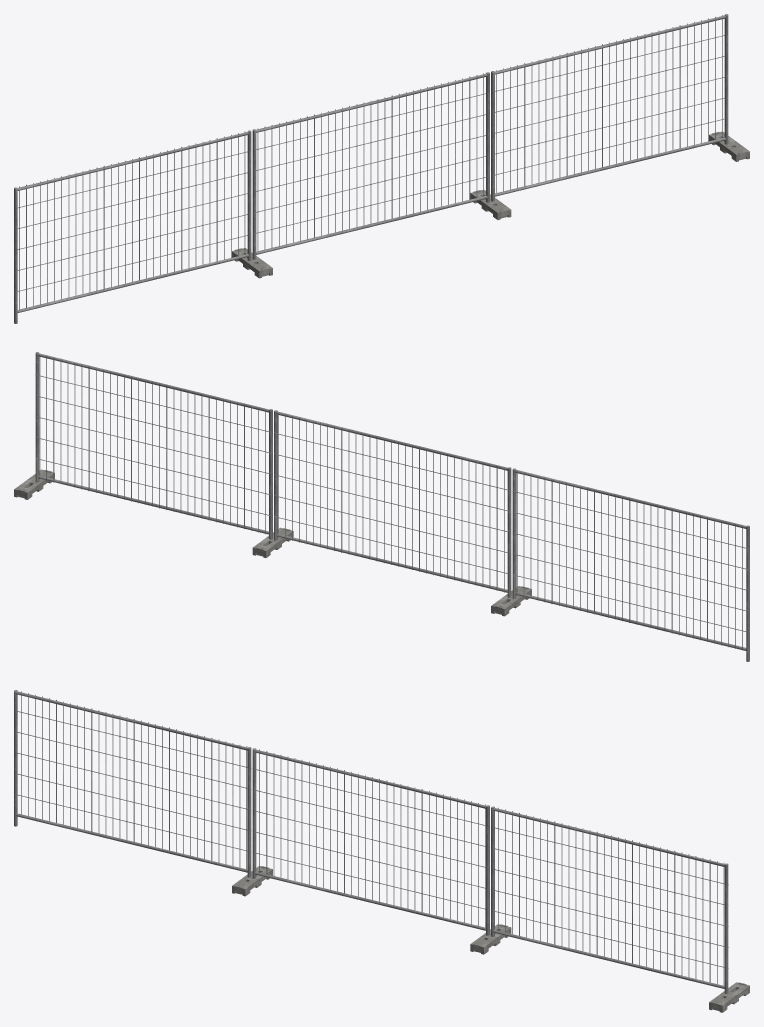
Rendered from smallwall.glb.
3 renders of one model, top to bottom at view 1: azimuth 30°, elevation 25°; view 2: azimuth 150°, elevation 25°; view 3: azimuth 330°, elevation 25°, orthographic.
Visible parts, largest first — view 1: FenceNewB02_FencesNewShader_0.003; view 2: FenceNewB02_FencesNewShader_0.003; view 3: FenceNewB02_FencesNewShader_0.003.
Part boxes in pixels (x1=…): FenceNewB02_FencesNewShader_0.003: x1=14, y1=14, x2=749, y2=323; FenceNewB02_FencesNewShader_0.003: x1=14, y1=352, x2=749, y2=661; FenceNewB02_FencesNewShader_0.003: x1=14, y1=690, x2=749, y2=1012.
Bounding box in the file's own units: 12.1 × 2.18 × 0.7948.
1 material, 1 textured.
